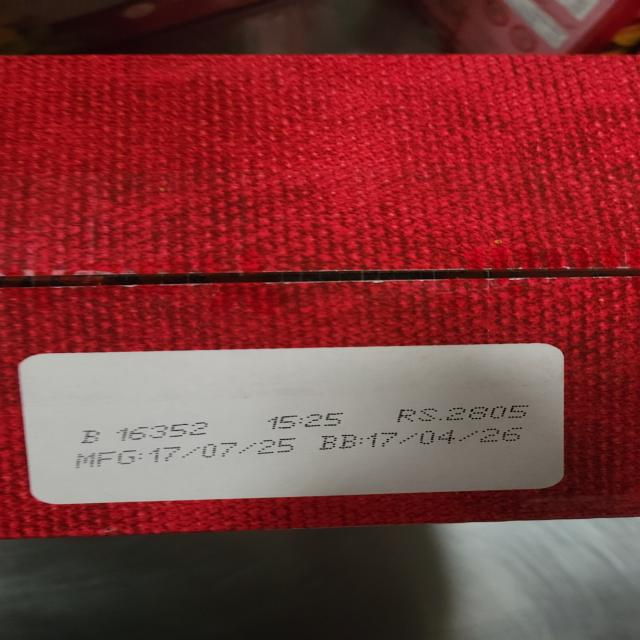BB: (318, 427, 524, 453)
Batch: (80, 420, 215, 444)
MFG: (74, 438, 302, 466)
RS: (388, 404, 532, 422)
TimeStamp: (261, 412, 348, 431)
